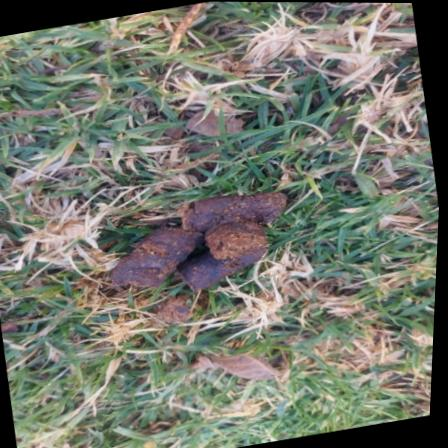dog-poop: (93, 177, 304, 336)
